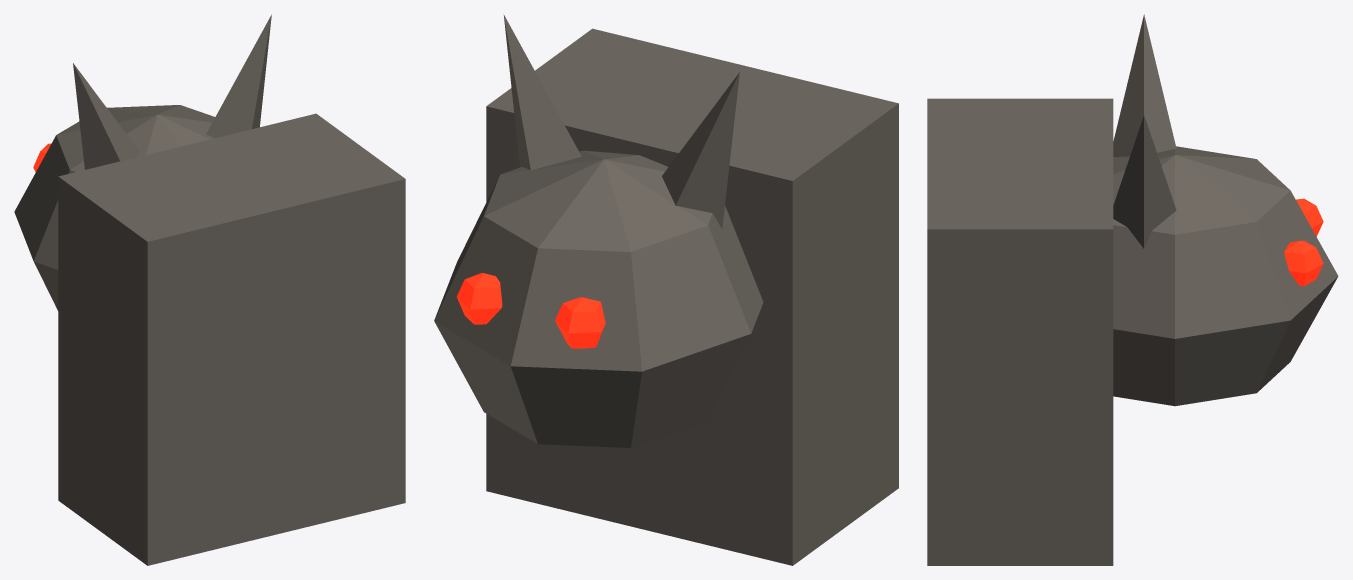
The model's file is gargoyle.glb.
3 views of the same model, side by side, from view 1: azimuth 30°, elevation 25°; view 2: azimuth 150°, elevation 25°; view 3: azimuth 270°, elevation 25° (orthographic). The views are drawn at different scales.
Visible parts, largest first — view 1: gargoyle; view 2: gargoyle; view 3: gargoyle.
Boxes of the visible parts, x1=… form: gargoyle: x1=14, y1=14, x2=405, y2=565; gargoyle: x1=434, y1=14, x2=898, y2=565; gargoyle: x1=927, y1=14, x2=1338, y2=565.
Bounding box in the file's own units: 0.5 × 0.7775 × 0.664.
